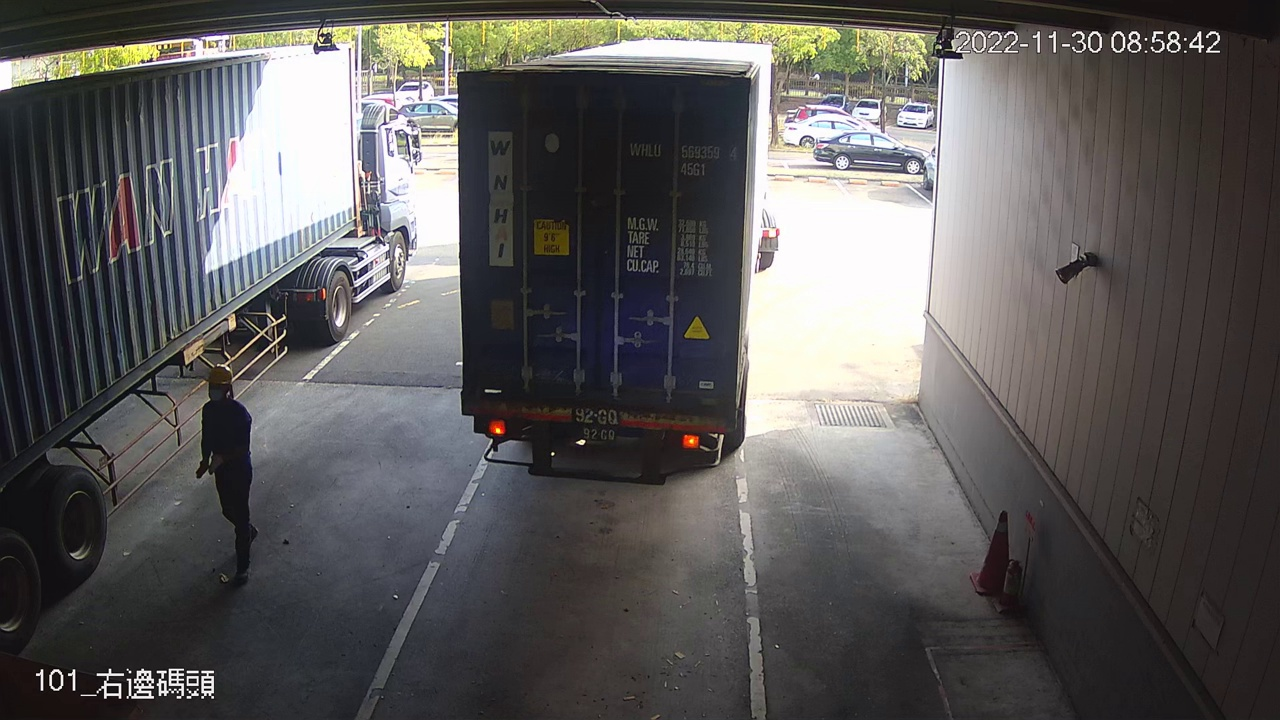container: (624, 136, 743, 180)
